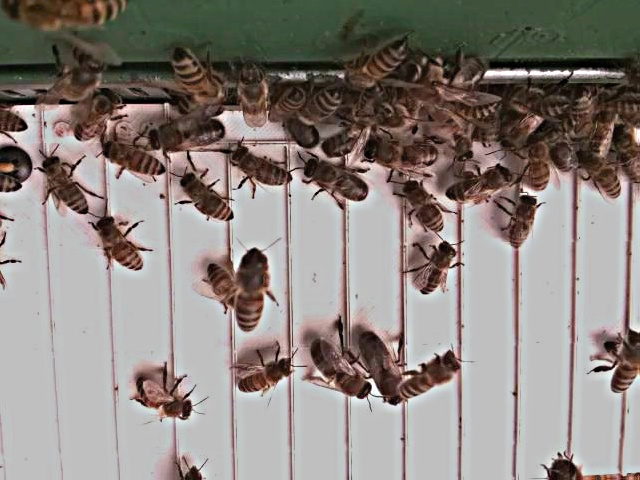Drone: (312, 340, 374, 405), (360, 332, 408, 409), (302, 158, 372, 205), (148, 117, 229, 154), (366, 137, 440, 175)
Worker: (345, 41, 414, 92), (41, 156, 92, 217), (136, 373, 196, 424), (398, 355, 460, 404), (179, 174, 237, 225), (96, 216, 145, 276), (222, 152, 294, 192), (170, 50, 218, 108), (447, 165, 514, 206), (237, 252, 268, 337), (579, 151, 625, 204), (404, 180, 446, 237), (418, 241, 459, 298), (100, 143, 166, 178), (74, 95, 120, 144), (237, 357, 294, 395), (610, 336, 640, 398), (207, 261, 242, 314), (509, 196, 542, 252), (528, 138, 554, 195)
